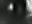person: (26, 1, 32, 17), (9, 4, 15, 13)
